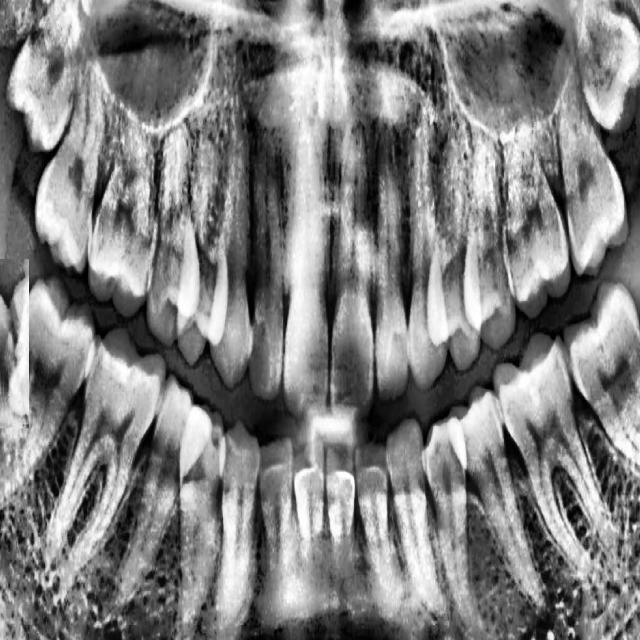Impacted Tooth: (0, 259, 29, 428)
